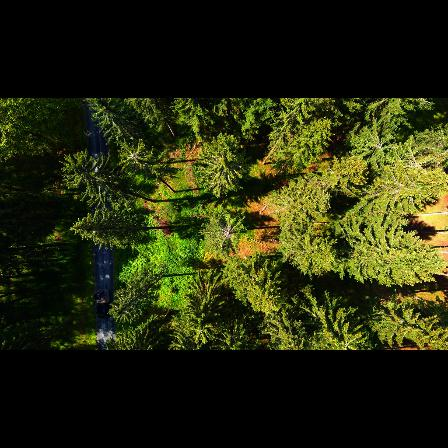Sick: (211, 215, 244, 249), (122, 140, 147, 169)
